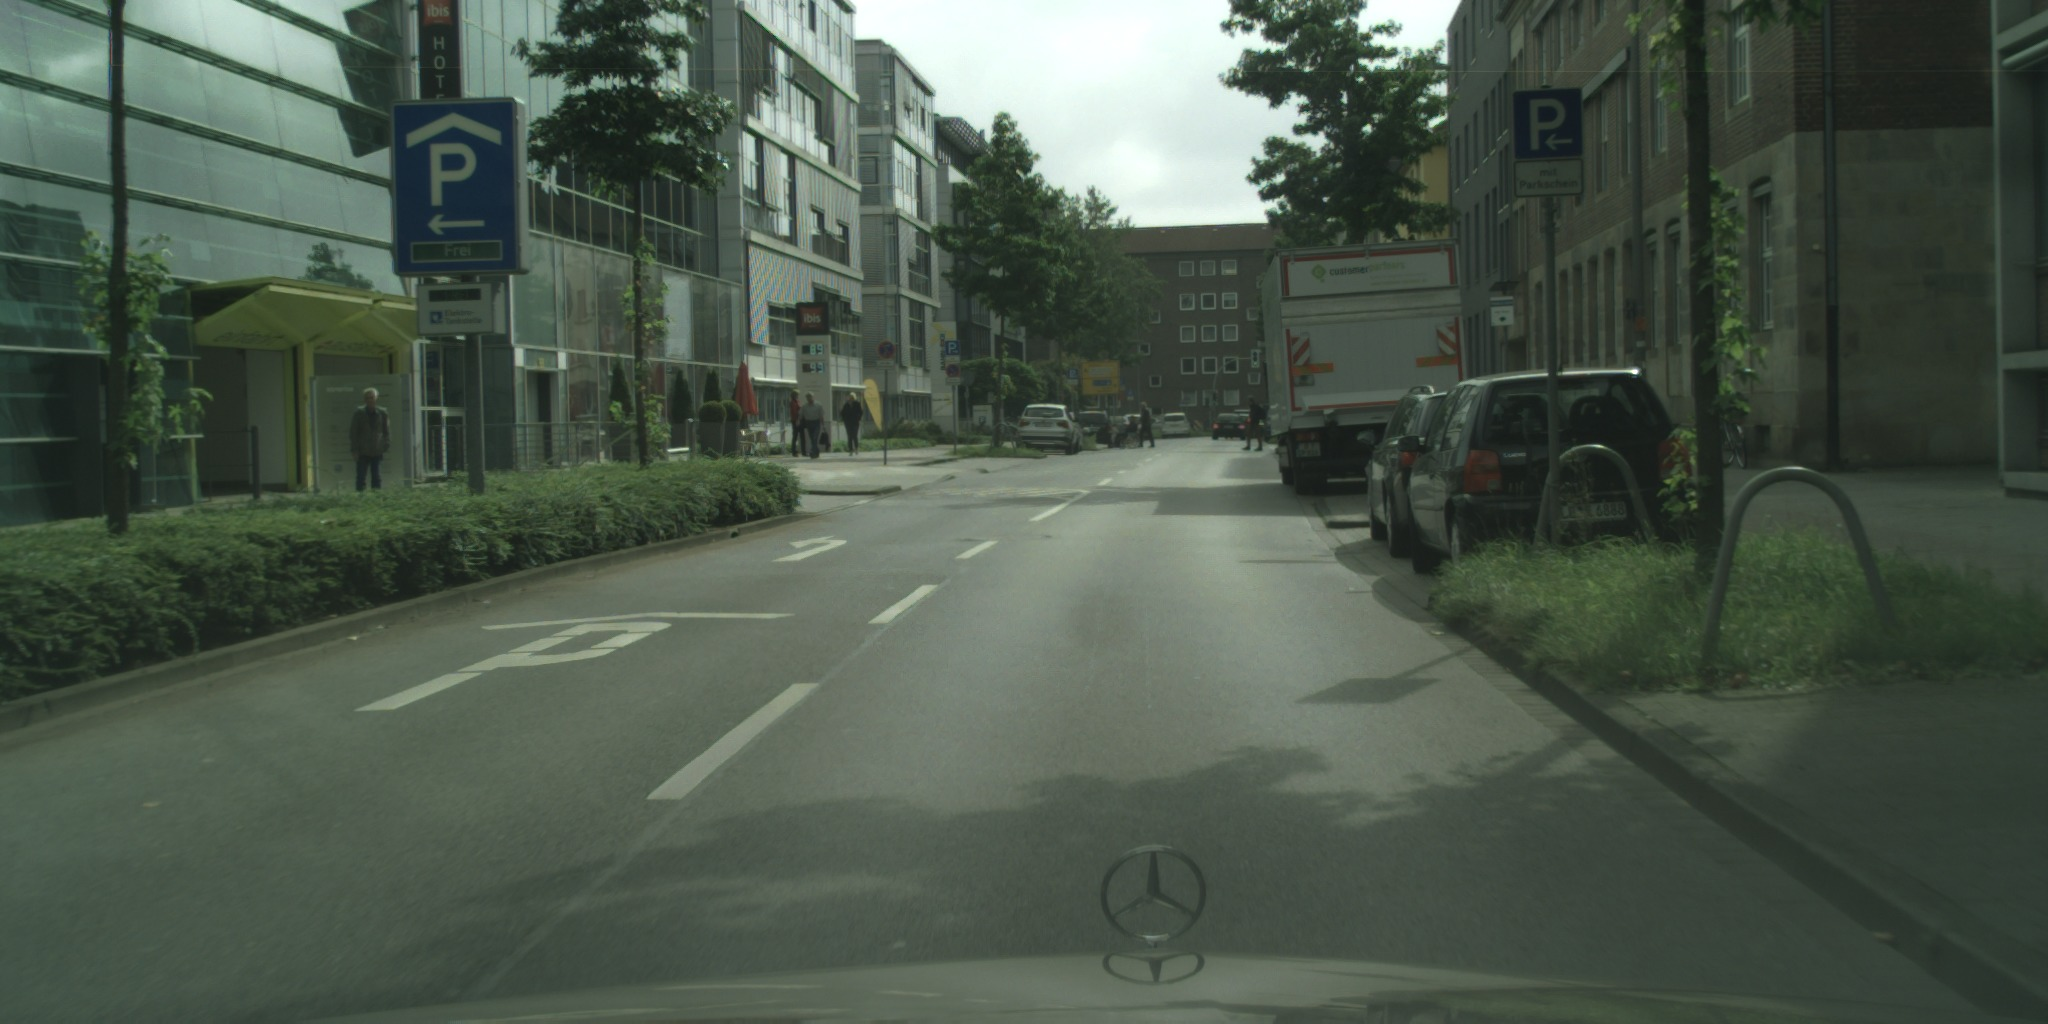car: (1397, 367, 1703, 575), (1367, 386, 1459, 559), (1015, 404, 1080, 452), (1075, 408, 1116, 444), (1232, 409, 1269, 438), (1210, 413, 1246, 441), (1161, 412, 1192, 438)
person: (351, 387, 393, 500), (798, 391, 831, 459), (837, 392, 863, 458), (1241, 394, 1268, 452), (789, 388, 810, 458), (1134, 400, 1156, 450), (1120, 415, 1136, 440)
truck: (1258, 238, 1468, 496)
